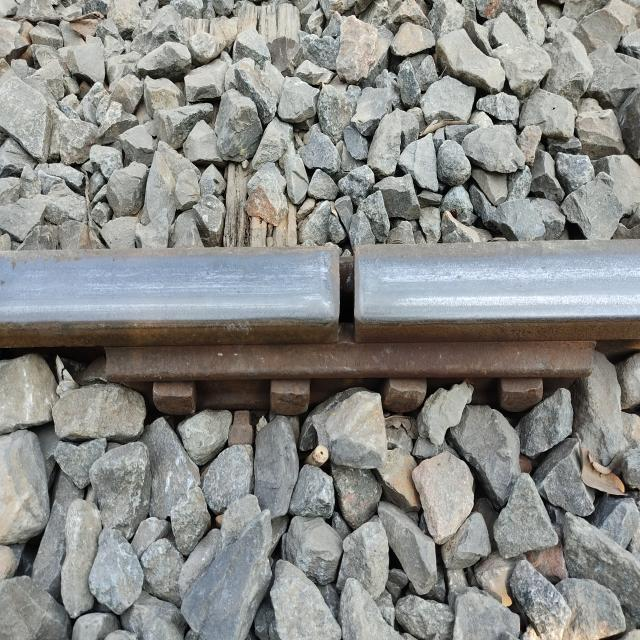defective: (255, 210, 427, 364)
